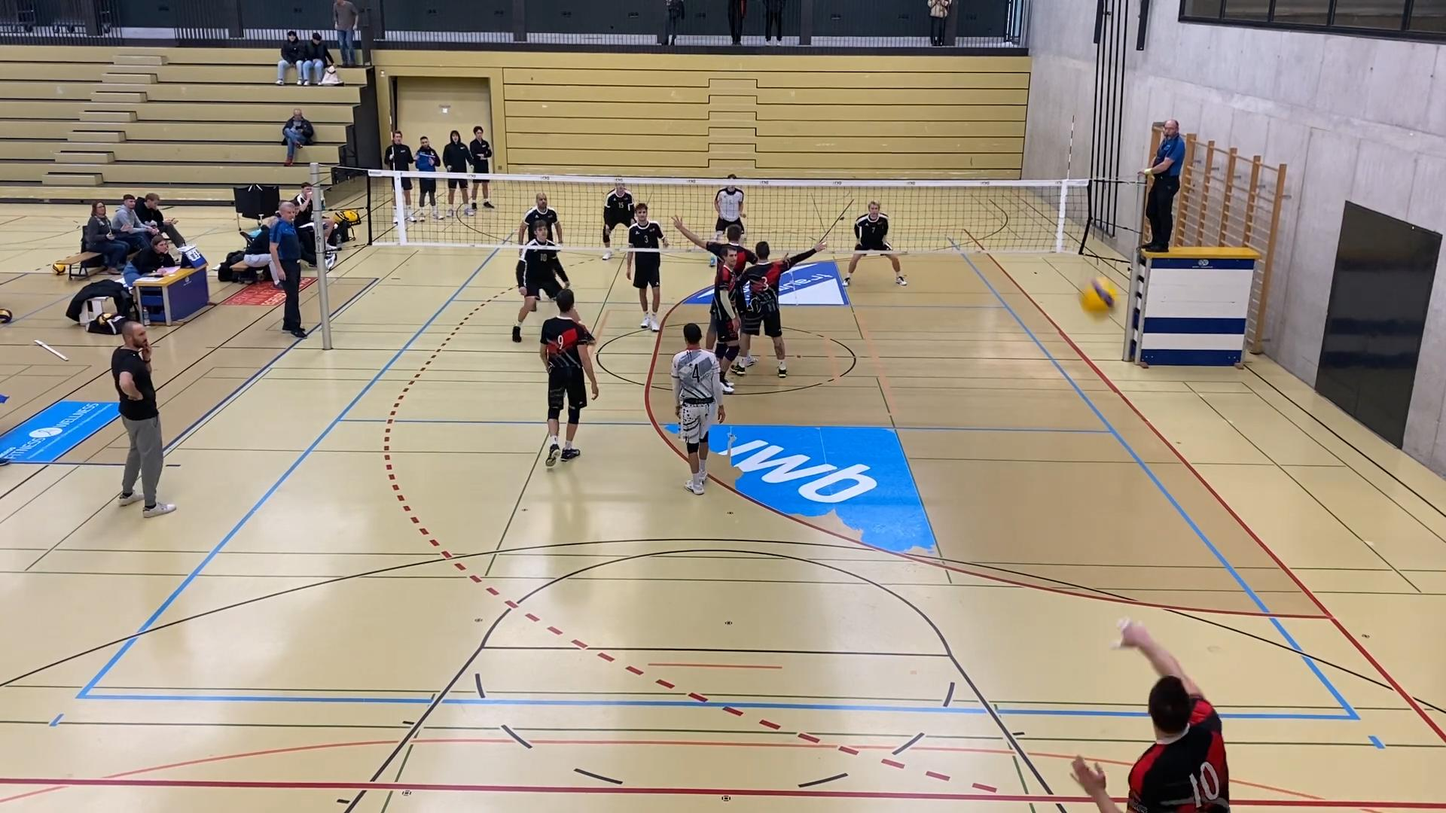Player: (673, 217, 755, 392), (731, 240, 825, 376), (540, 289, 598, 466), (671, 322, 725, 495), (512, 221, 569, 342), (626, 203, 668, 331), (843, 201, 907, 285), (602, 181, 634, 260), (518, 193, 562, 243), (714, 184, 746, 240)
Serve: (1064, 614, 1249, 811)
ball: (1077, 273, 1121, 321)
